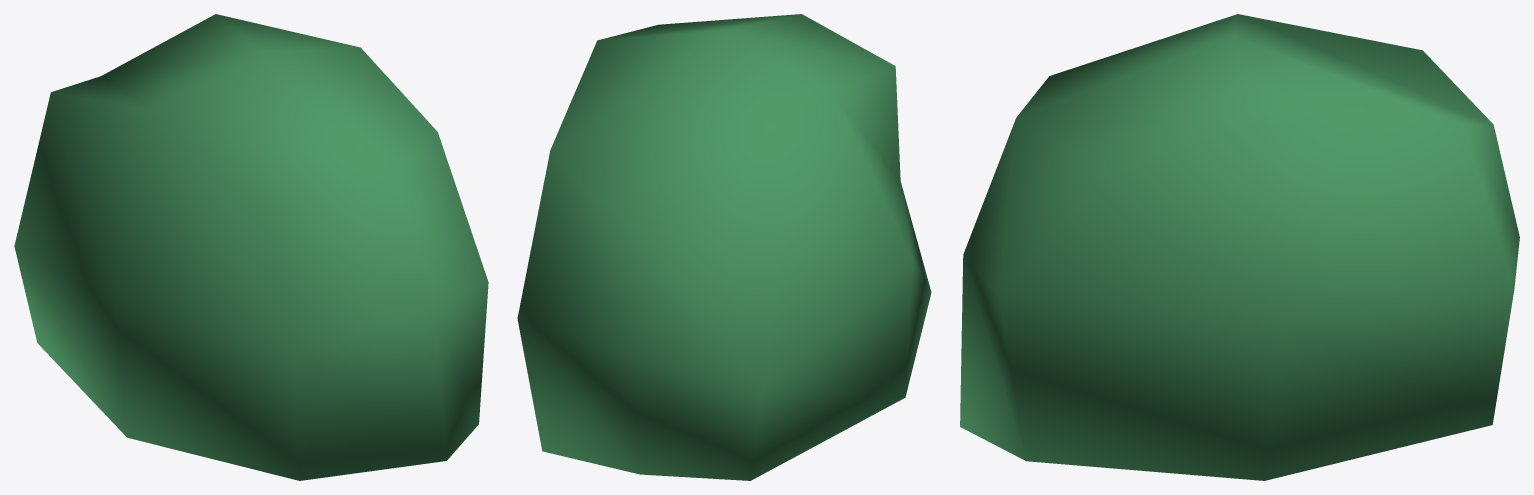
Rendered from Bush1.fbx.
The picture shows the model from 3 angles, left to right: view 1: azimuth 30°, elevation 25°; view 2: azimuth 150°, elevation 25°; view 3: azimuth 270°, elevation 25°; orthographic projection. The views are drawn at different scales.
Parts seen in each view (by area): view 1: Bush2; view 2: Bush2; view 3: Bush2.
Boxes of the visible parts, x1,y1,x2,y2 form: Bush2: (14, 14, 488, 480); Bush2: (517, 14, 931, 480); Bush2: (960, 14, 1519, 480).
Bounding box in the file's own units: 715 × 698 × 985.
Materials: 1 (1 with a texture image).
